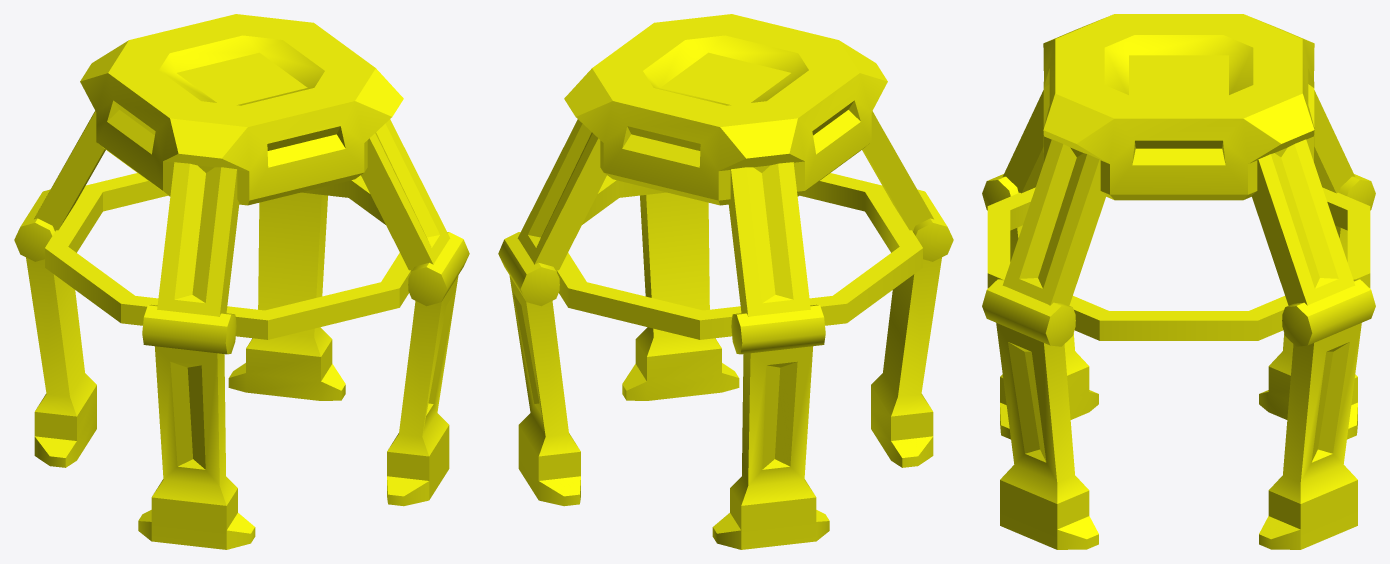
The model's file is kaykit-structure-tall.glb.
3 views of the same model, side by side, from view 1: azimuth 30°, elevation 25°; view 2: azimuth 150°, elevation 25°; view 3: azimuth 270°, elevation 25° (orthographic). The views are drawn at different scales.
Visible parts, largest first — view 1: structure_tall; view 2: structure_tall; view 3: structure_tall.
Boxes of the visible parts, left/top/right/bottom form: structure_tall: left=14, top=14, right=469, bottom=549; structure_tall: left=498, top=14, right=953, bottom=549; structure_tall: left=982, top=14, right=1375, bottom=549.
Size of the model in its own units: 1.75 by 2 by 1.75.
